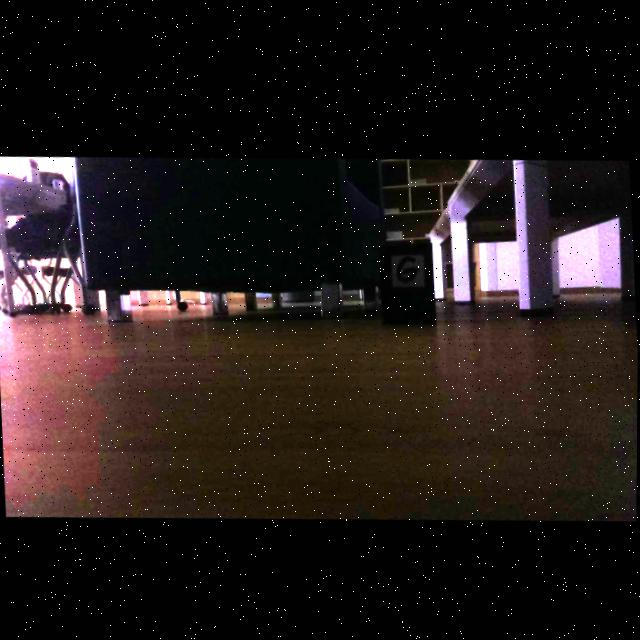G: (398, 252, 419, 277)
